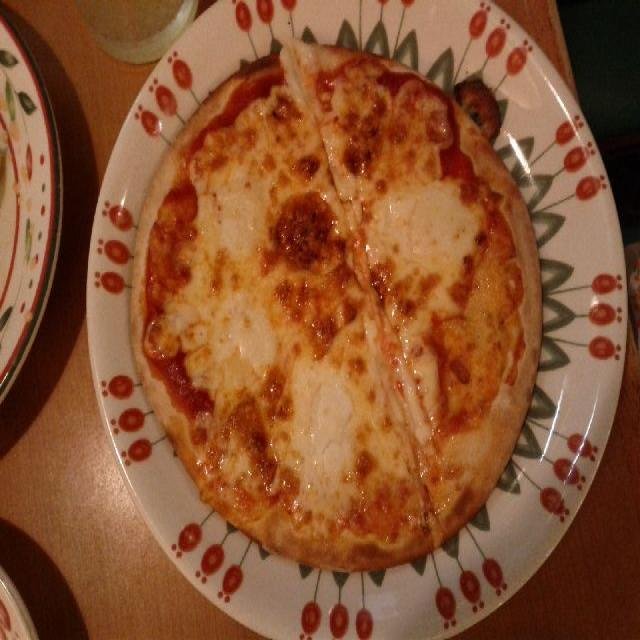Pizza: (120, 68, 552, 572)
